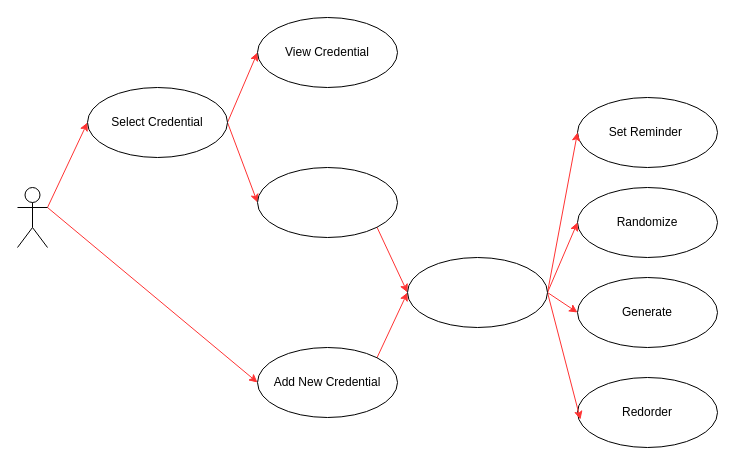
The diagram is 735 pixels wide and 465 high, and some of its shapes have lost their labels. The centre of each missing label's shape, as x and y in pixels:
"Actions" goes at point 477,292.
"Actor" goes at point 32,217.
"Edit Existing Credential" goes at point 327,202.
